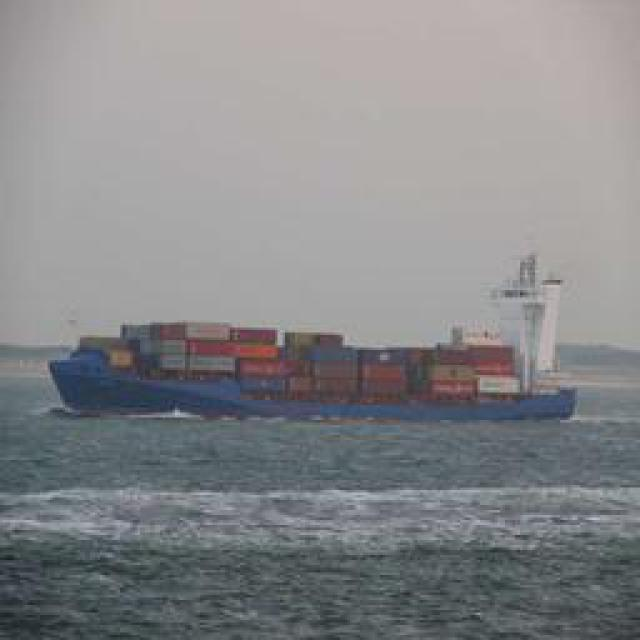Ship: (51, 309, 599, 424)
